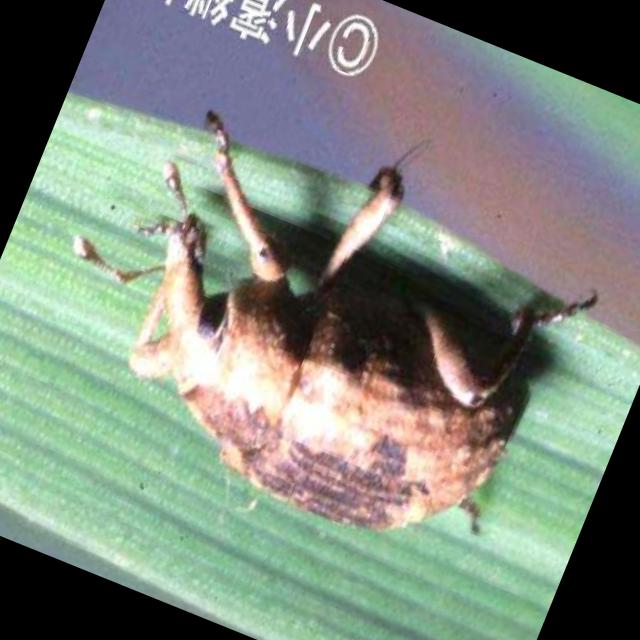rice-bug: (71, 142, 574, 580)
